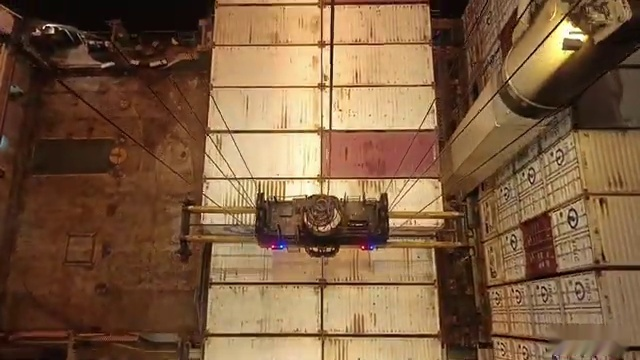container: (199, 178, 442, 238), (207, 285, 439, 335), (206, 130, 439, 177), (208, 85, 436, 132), (207, 238, 436, 282), (209, 44, 435, 86), (201, 334, 444, 360)
guide_mark: (65, 346, 559, 360), (112, 357, 545, 360)
spreader: (174, 191, 472, 265)
target_slot: (197, 177, 444, 237)
